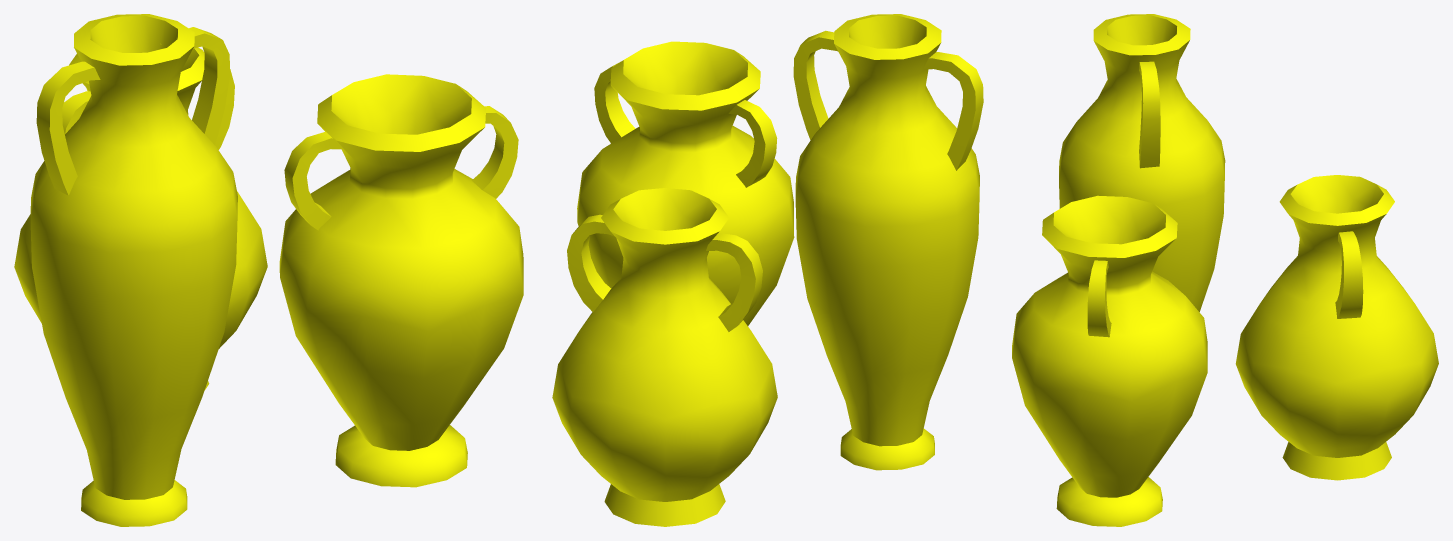
3 views of the same model, side by side, from view 1: azimuth 30°, elevation 25°; view 2: azimuth 150°, elevation 25°; view 3: azimuth 270°, elevation 25° (orthographic). The views are drawn at different scales.
Visible parts, largest first — view 1: Amphora_3, Amphora_1, Amphora_2; view 2: Amphora_3, Amphora_2, Amphora_1; view 3: Amphora_1, Amphora_2, Amphora_3.
Boxes of the visible parts, bbox=[...] form: Amphora_3: bbox=[30, 14, 237, 526]; Amphora_1: bbox=[279, 74, 523, 487]; Amphora_2: bbox=[14, 47, 267, 390]; Amphora_3: bbox=[793, 14, 983, 470]; Amphora_2: bbox=[552, 188, 777, 526]; Amphora_1: bbox=[577, 41, 794, 325]; Amphora_1: bbox=[1012, 195, 1207, 526]; Amphora_2: bbox=[1235, 175, 1438, 480]; Amphora_3: bbox=[1059, 14, 1225, 311].
Size of the model in its own units: 0.0132 by 0.0131 by 0.0134.
1 material, 1 textured.
